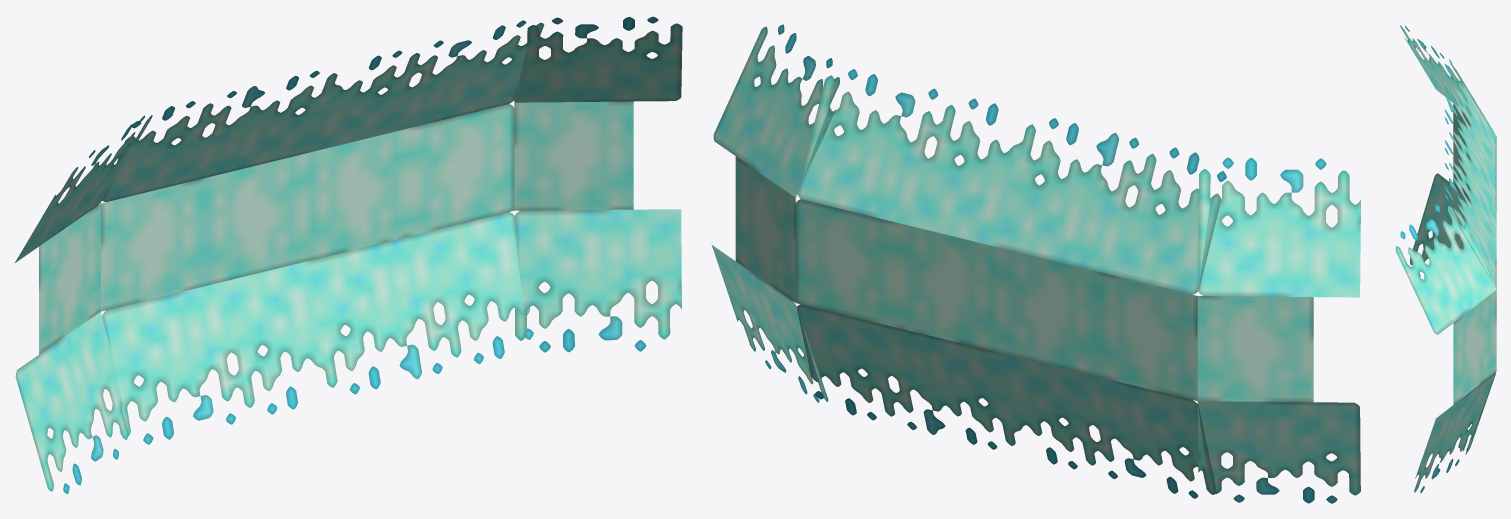
The model's file is aetherwave.obj.
3 renders of one model, left to right at view 1: azimuth 30°, elevation 25°; view 2: azimuth 150°, elevation 25°; view 3: azimuth 270°, elevation 25°, orthographic. The views are drawn at different scales.
Parts seen in each view (by area): view 1: Base; view 2: Base; view 3: Base.
Part boxes in pixels (x1,y1,x2,y2): Base: (14, 16, 682, 493); Base: (711, 24, 1360, 503); Base: (1395, 25, 1496, 492).
Bounding box in the file's own units: 2.02 × 0.9975 × 0.3681.
